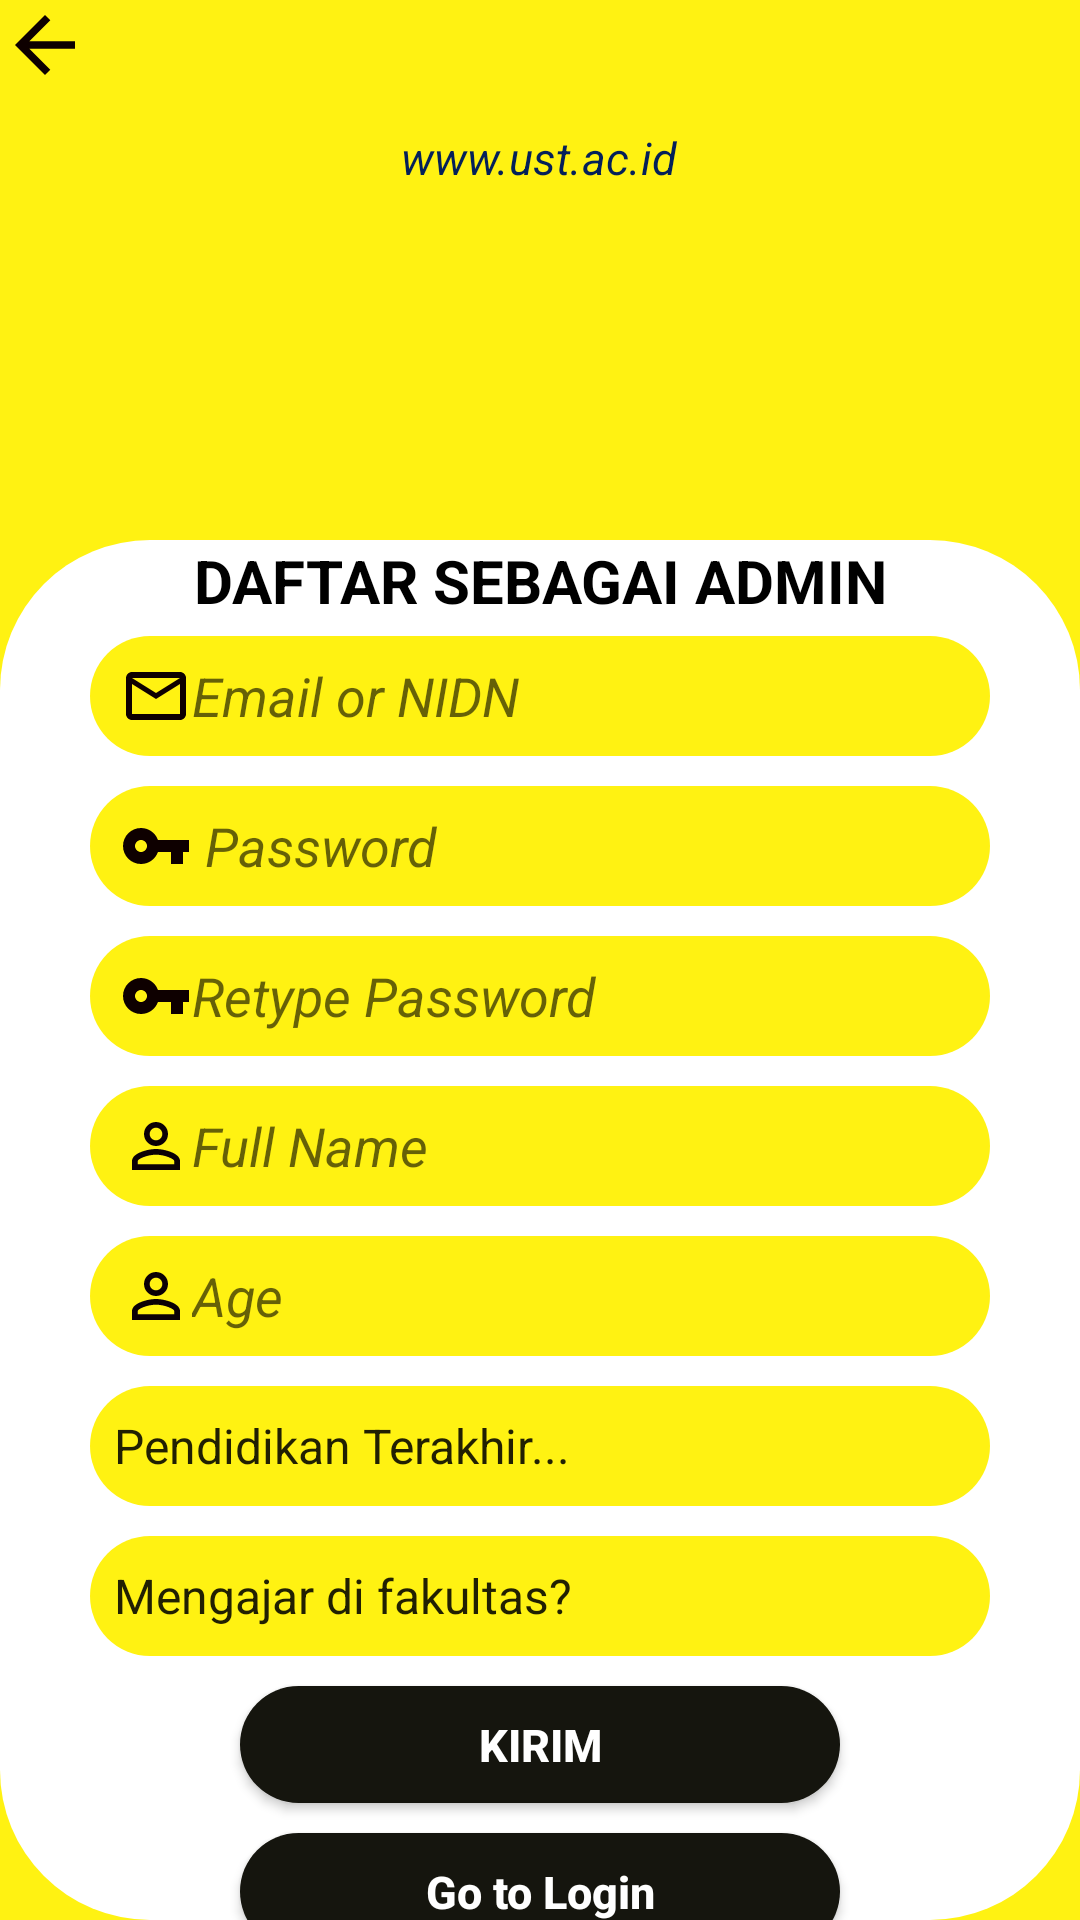

Point at icon controls on the screen. Image size 1080×1920, points as (x,y).
back: (45,45)
